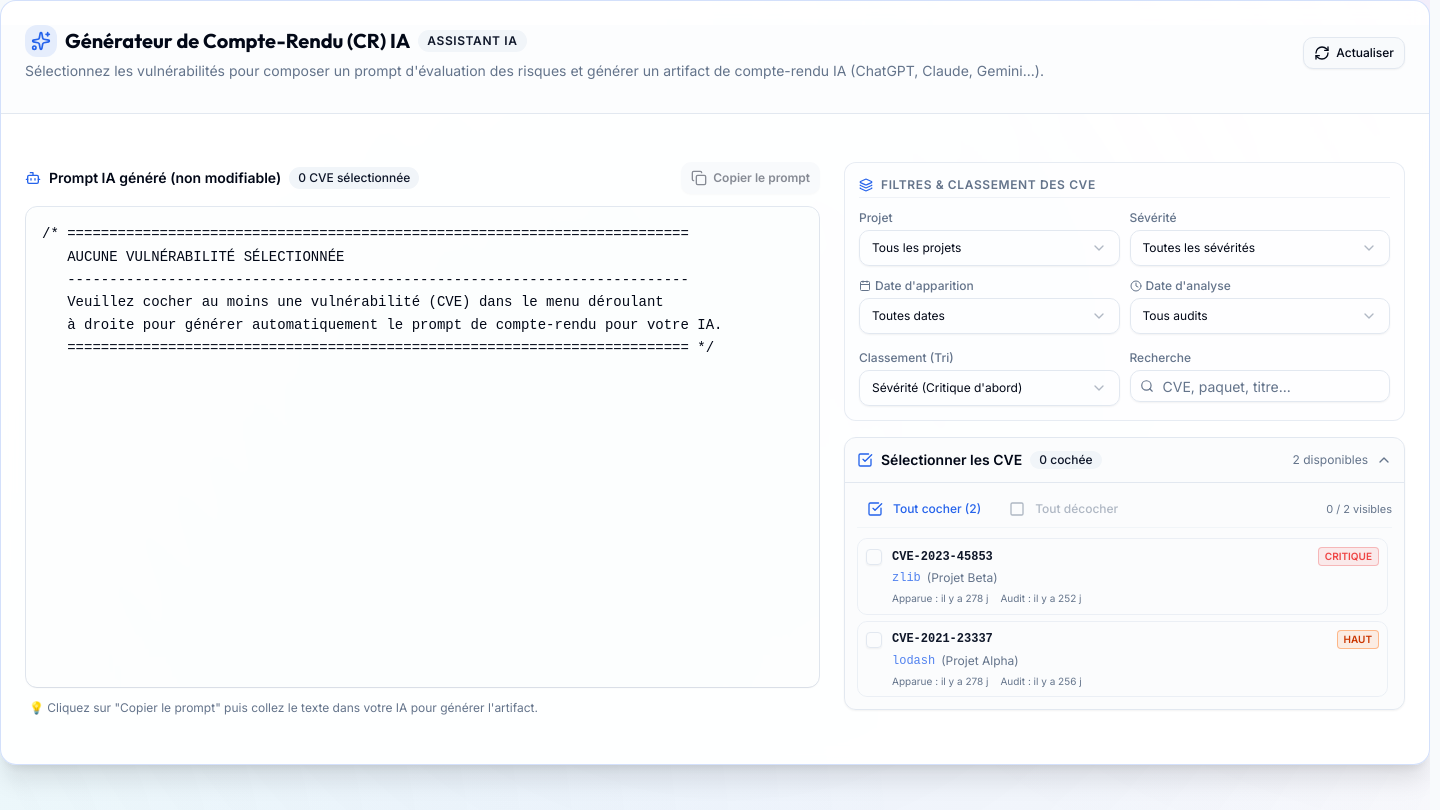
Test case: PromptReportGenerator Component › cocher une CVE met à jour dynamiquement le contenu du prompt
Expected: the text "CVE-2021-23337" is shown, [892, 631, 993, 647]
Click the checkbox named "CVE-2021-23337".
click(874, 640)  # box [866, 632, 882, 648]
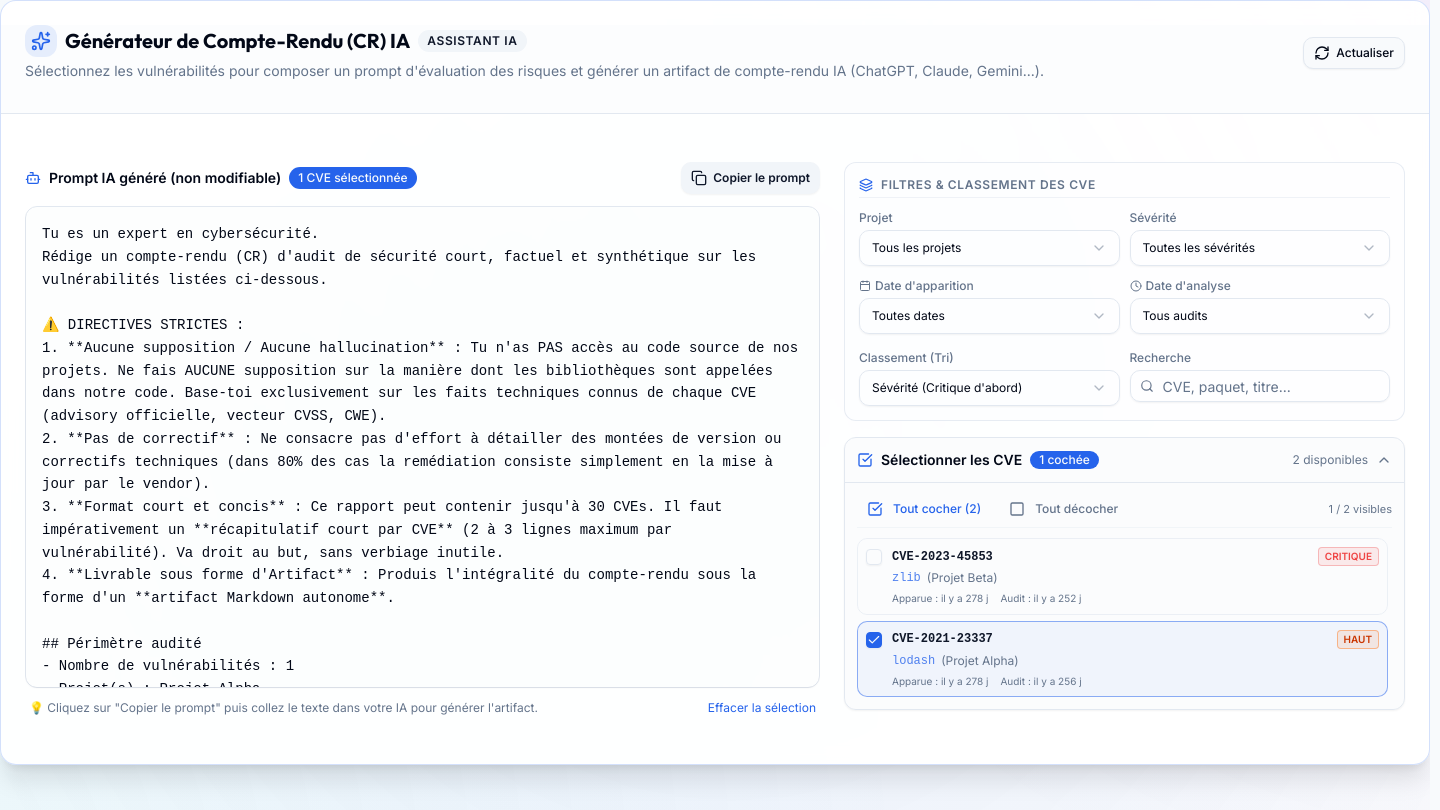
Result: the text "1 CVE sélectionnée" is shown at [289, 167, 416, 189]
